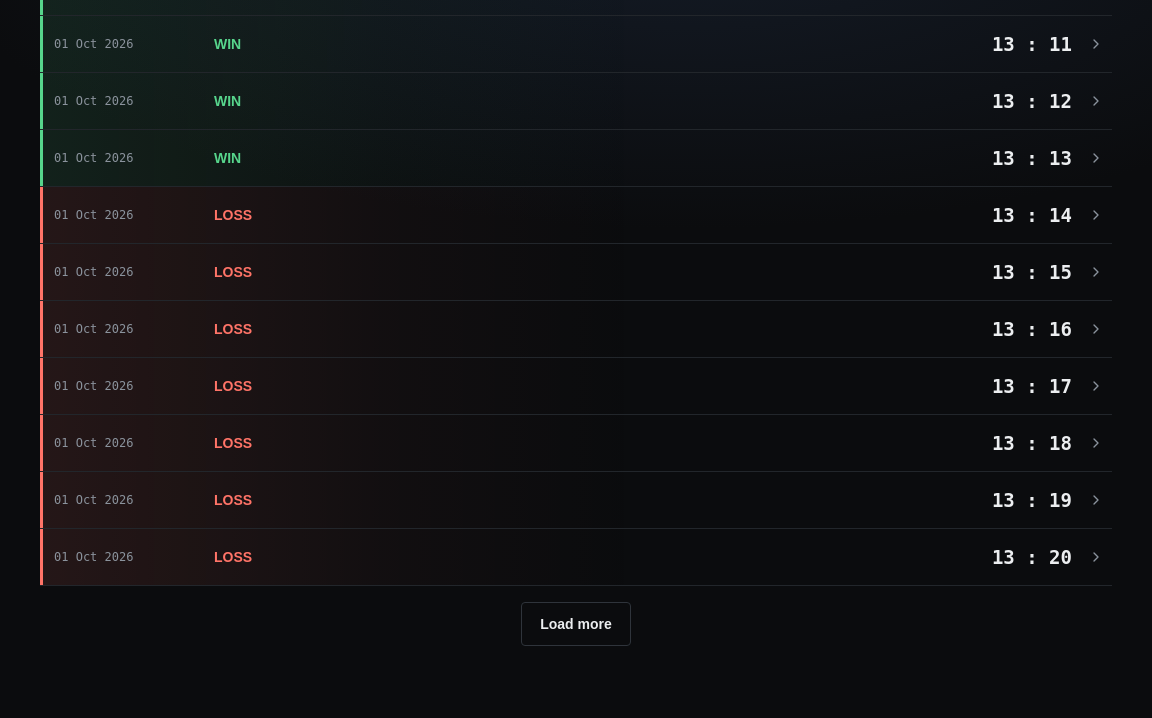
PlayerPage › load more › offers another page after a full second page
(page scrolled)
Step 1. Click the button "Load more" → (576, 624), box [521,602,631,646]
(page scrolled)
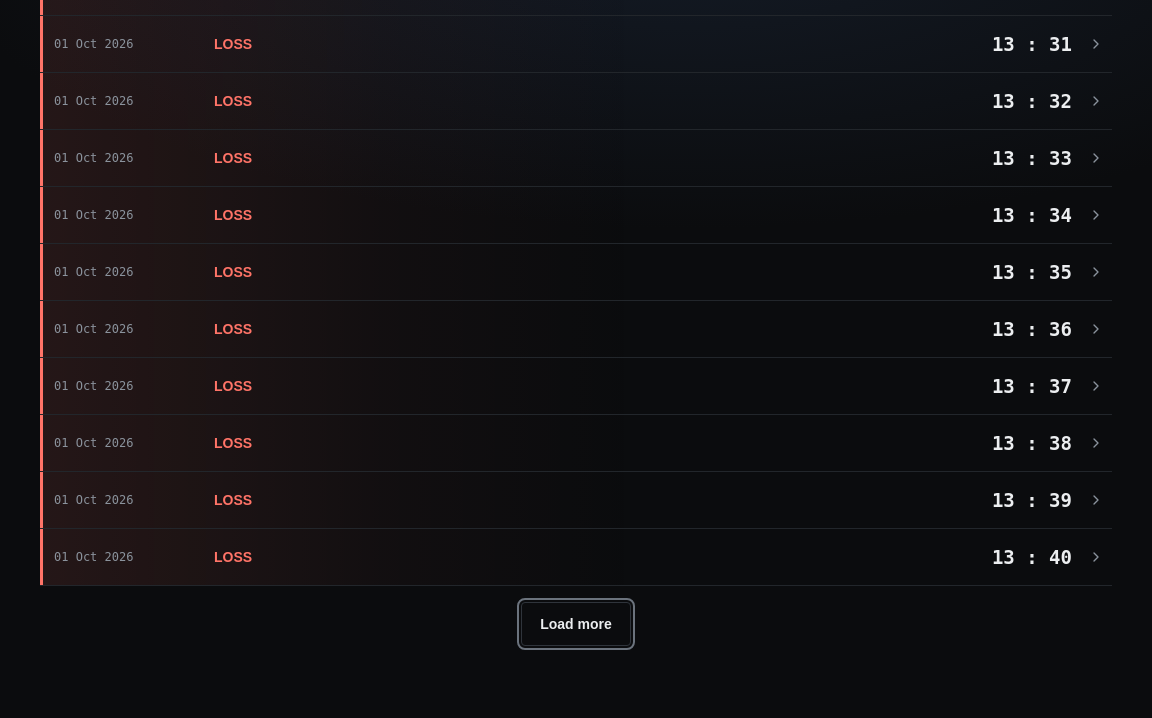
Now the link "01 Oct 2026 LOSS 13 : 40" is shown, box [40,529,1112,585]
Step 2. Click the button "Load more" → (576, 624), box [521,602,631,646]
(page scrolled)
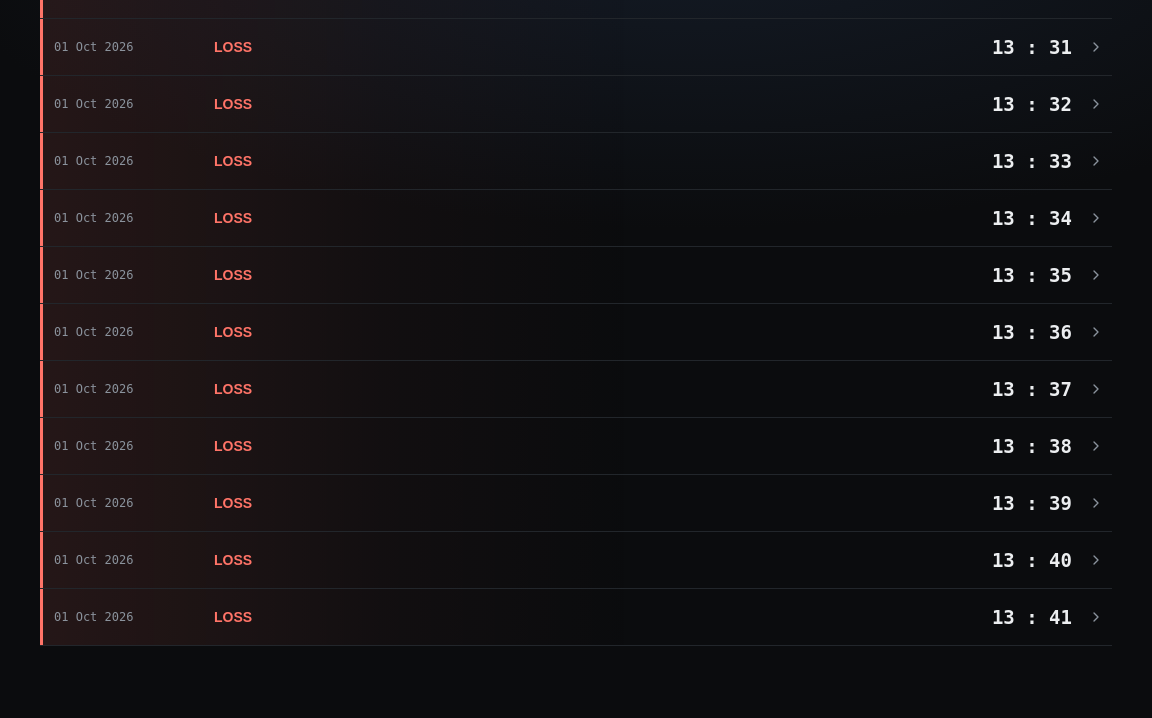
Now the link "01 Oct 2026 LOSS 13 : 41" is shown, box [40,589,1112,645]
Now the button "Load more" is gone
